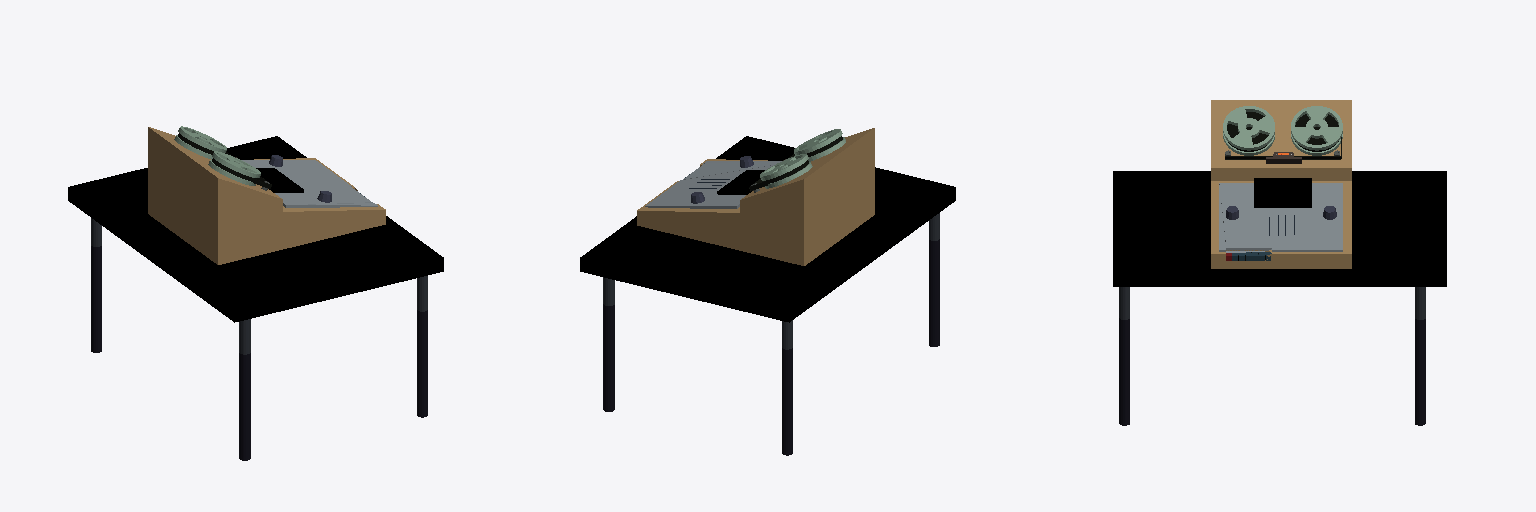
3 views of the same model, side by side, from view 1: azimuth 30°, elevation 25°; view 2: azimuth 150°, elevation 25°; view 3: azimuth 270°, elevation 25° (orthographic).
Visible parts, largest first — view 1: polySurface24, pCube3 polySurface1 polySurface3, polySurface2 pCube3, polySurface16, polySurface14, pCube7; view 2: polySurface24, pCube3 polySurface1 polySurface3, polySurface2 pCube3, polySurface14, polySurface16, pCube7; view 3: polySurface24, pCube3 polySurface1 polySurface3, polySurface2 pCube3, polySurface16, polySurface14, pCube7.
Boxes of the visible parts, <box> form: polySurface24: <box>68,136,443,460</box>; pCube3 polySurface1 polySurface3: <box>148,127,385,264</box>; polySurface2 pCube3: <box>242,160,377,207</box>; polySurface16: <box>208,151,260,185</box>; polySurface14: <box>174,126,226,158</box>; pCube7: <box>256,168,303,192</box>; polySurface24: <box>580,136,955,455</box>; pCube3 polySurface1 polySurface3: <box>637,128,874,265</box>; polySurface2 pCube3: <box>645,161,781,208</box>; polySurface14: <box>760,154,812,188</box>; polySurface16: <box>794,129,845,161</box>; pCube7: <box>717,170,764,194</box>; polySurface24: <box>1113,171,1446,425</box>; pCube3 polySurface1 polySurface3: <box>1211,100,1351,268</box>; polySurface2 pCube3: <box>1219,183,1342,252</box>; polySurface16: <box>1223,106,1274,155</box>; polySurface14: <box>1291,106,1342,155</box>; pCube7: <box>1254,178,1311,207</box>.
Size of the model in its own units: 2.23 by 2.52 by 3.07.
12 materials, 9 textured.